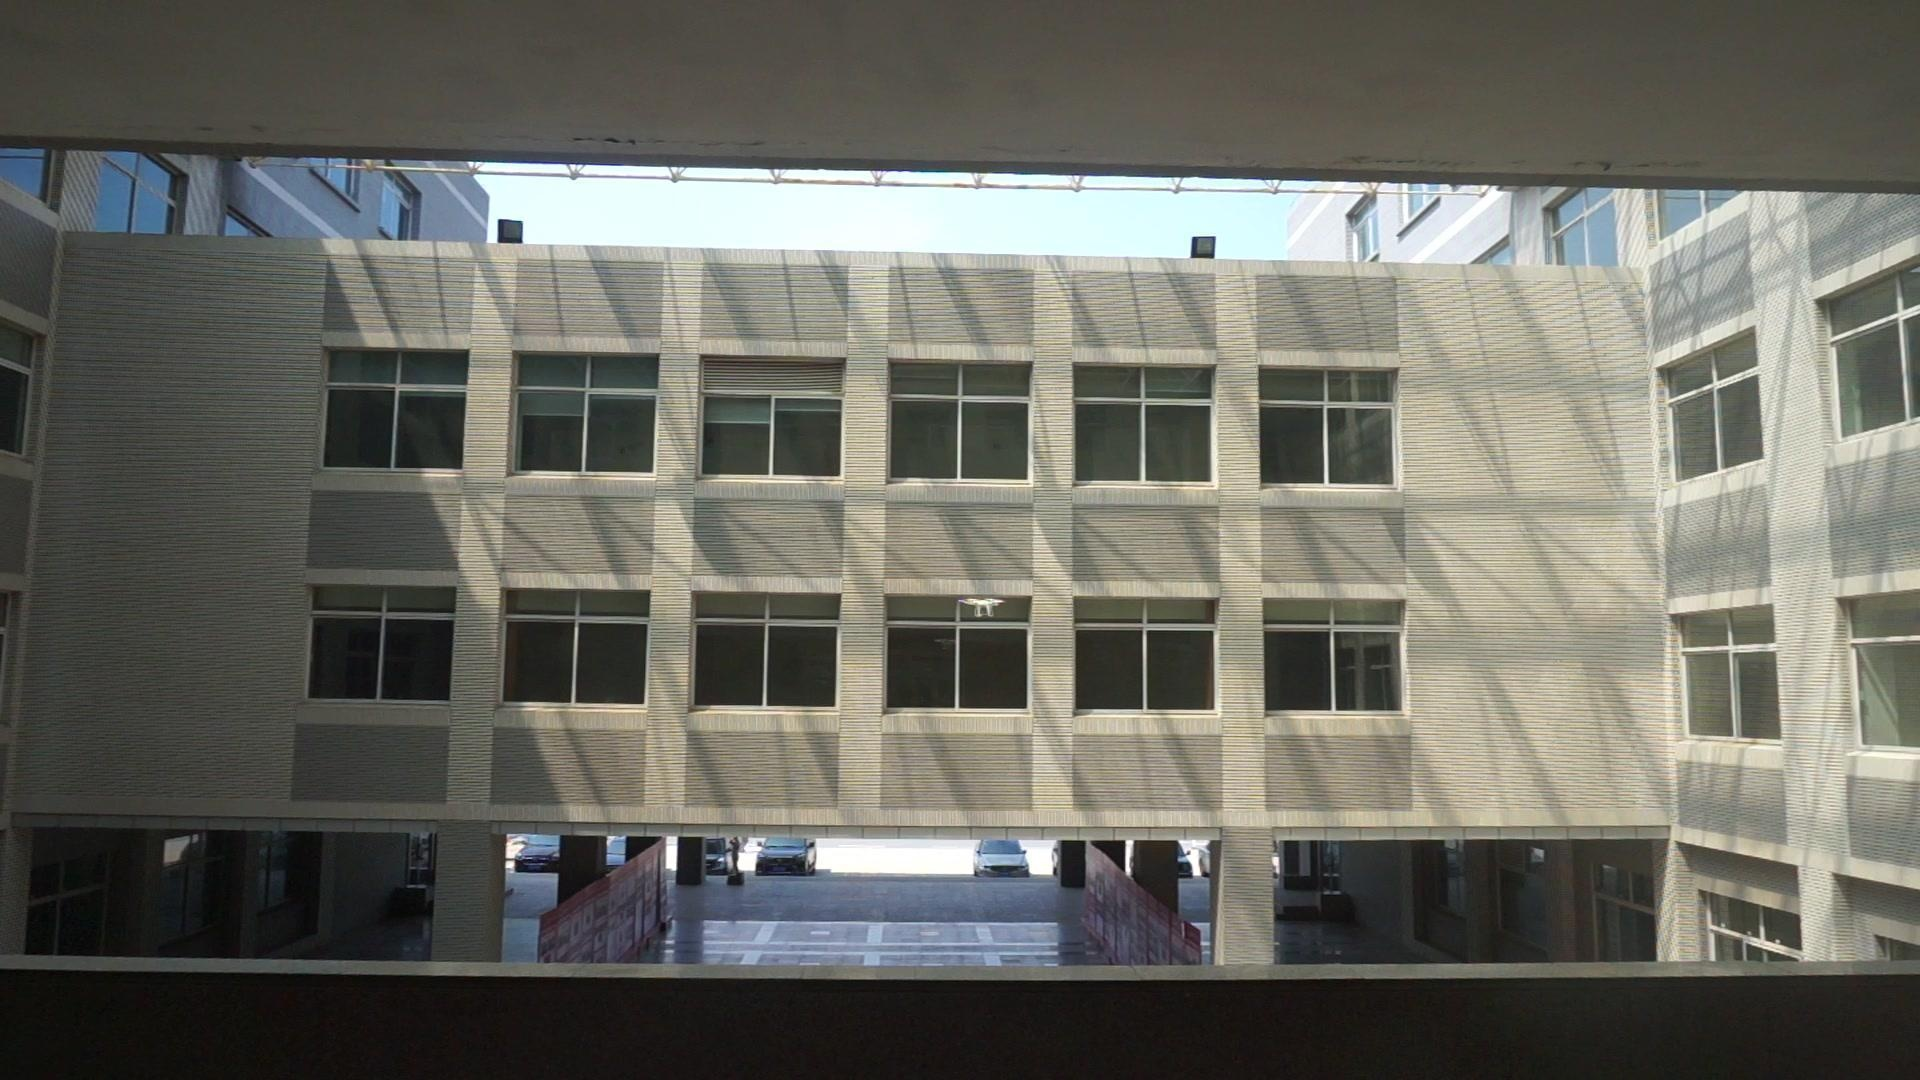UAV: (959, 599, 1007, 617)
